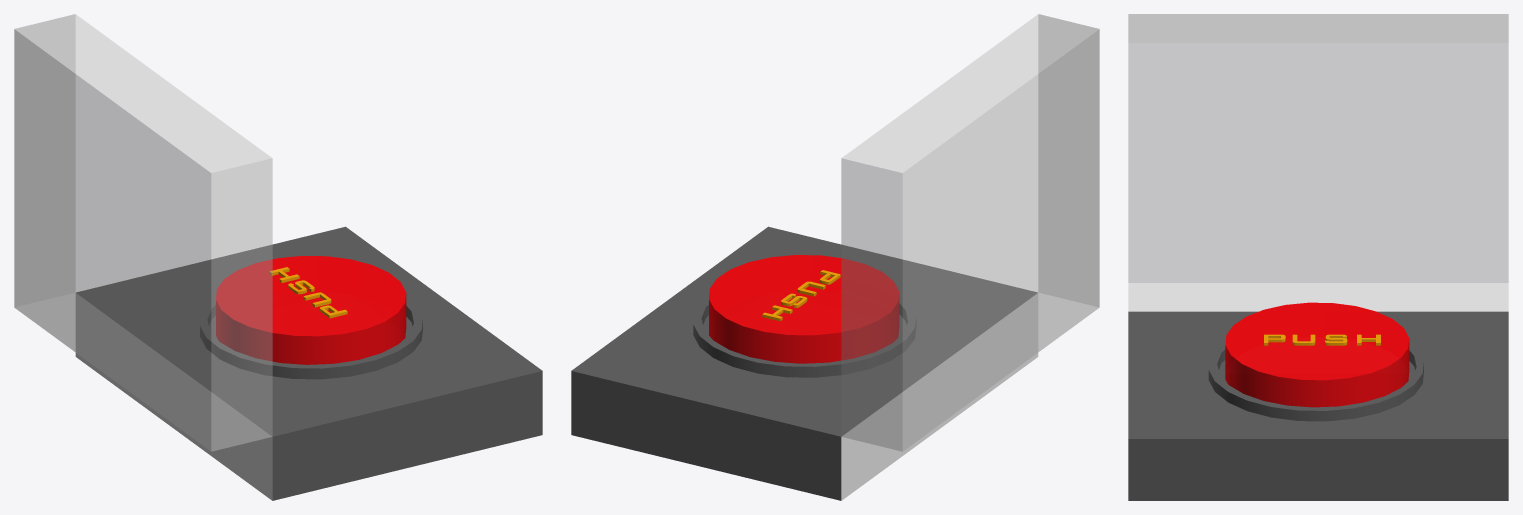
Rendered from button.dae.
The picture shows the model from 3 angles, left to right: view 1: azimuth 30°, elevation 25°; view 2: azimuth 150°, elevation 25°; view 3: azimuth 270°, elevation 25°; orthographic projection. The views are drawn at different scales.
Parts seen in each view (by area): view 1: Component (×5); view 2: Component (×5); view 3: Component (×4).
Boxes of the visible parts, left/top/right/bottom form: Component (×5): left=14, top=14, right=542, bottom=500; Component (×5): left=571, top=14, right=1099, bottom=500; Component (×4): left=1128, top=14, right=1508, bottom=500.
Size of the model in its own units: 125 by 129 by 124.
